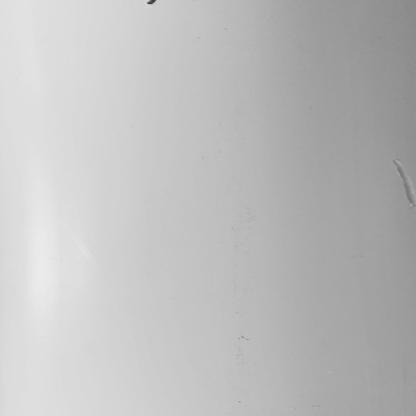sunshang: (388, 158, 416, 206)
